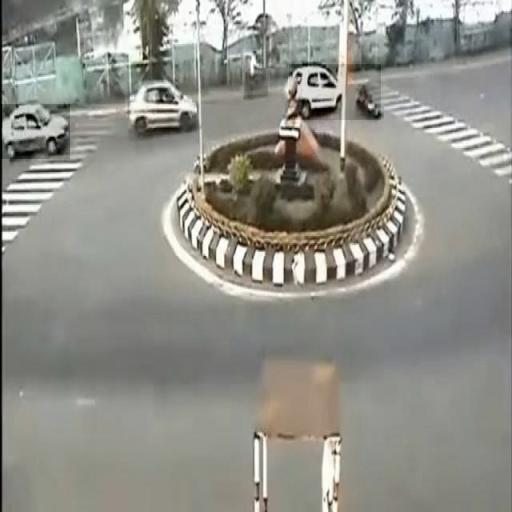小汽车: (0, 104, 70, 159), (127, 80, 199, 133)
小汽车撞自行车: (289, 64, 381, 120)
自行车: (242, 49, 270, 95)
